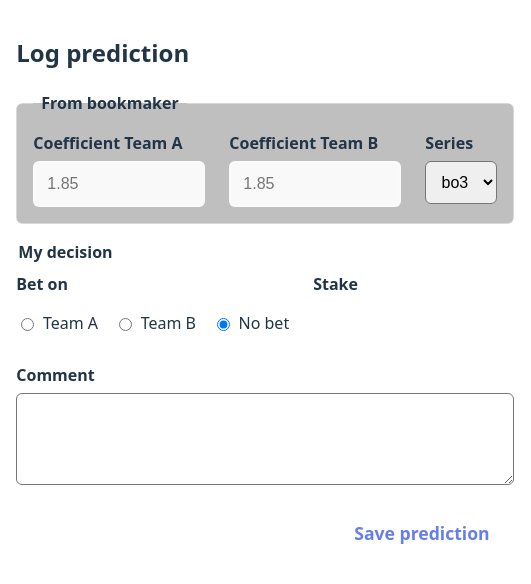
Test: PredictionPanel › sends a prediction without a bet and an unknown series as nulls
Type "1.5" into the field labelled "Coefficient Team A" at (119, 184), box 33,161 -> 205,207
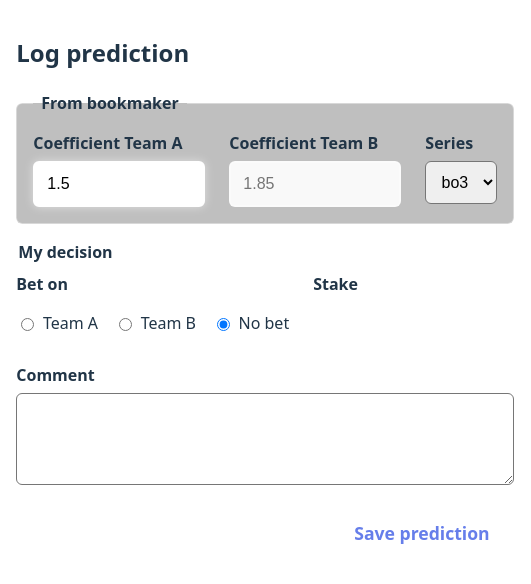
Type "2.5" into the field labelled "Coefficient Team B" at (315, 184), box 229,161 -> 401,207
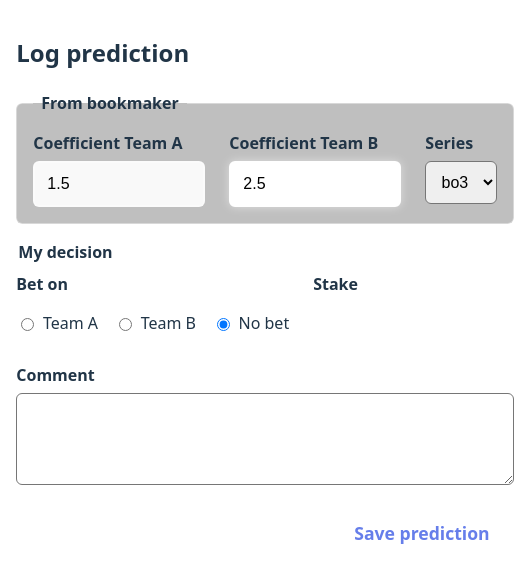
Select "n/a" in the dropdown at (461, 182), box 425,161 -> 497,204
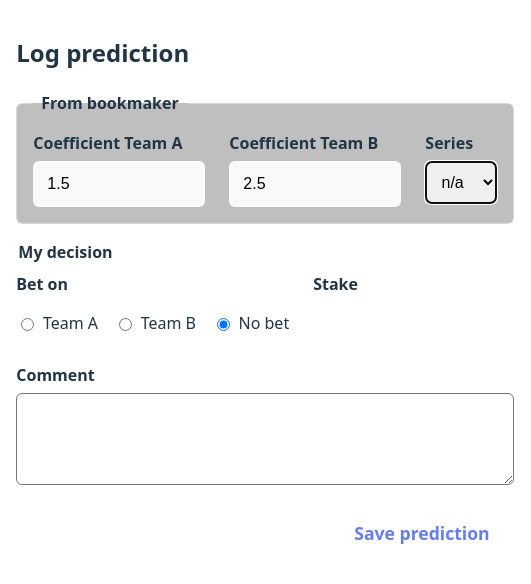
Click the button "Save prediction" at (422, 533), box 330,509 -> 514,557
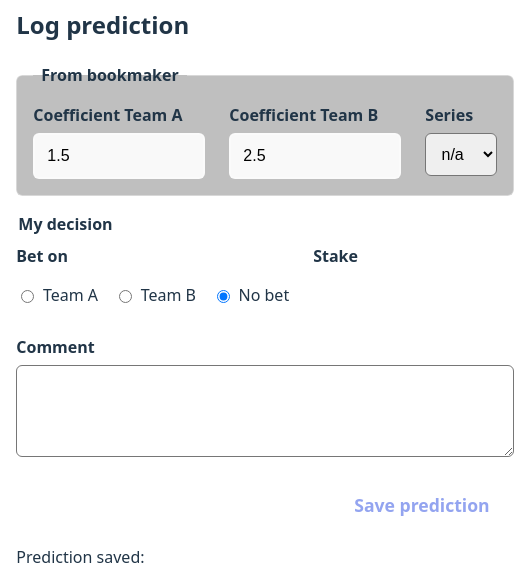
Result: the text "Prediction saved: #3" is shown at 16,546 -> 168,568
